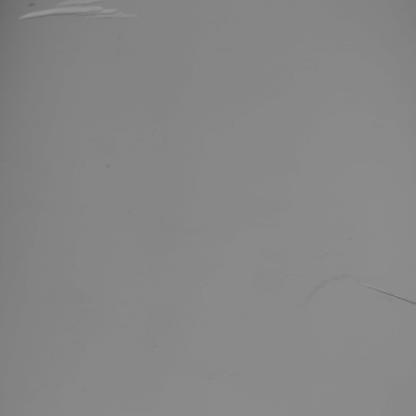sunshang: (15, 3, 126, 20), (365, 274, 416, 306)
